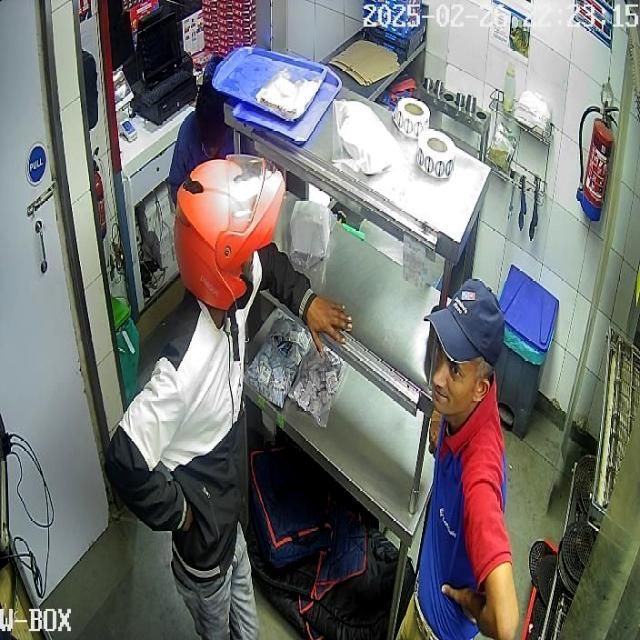helmet: (173, 155, 285, 327)
no_helmet: (424, 276, 505, 437)
